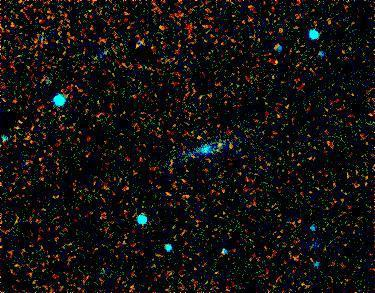star: (181, 119, 211, 149)
